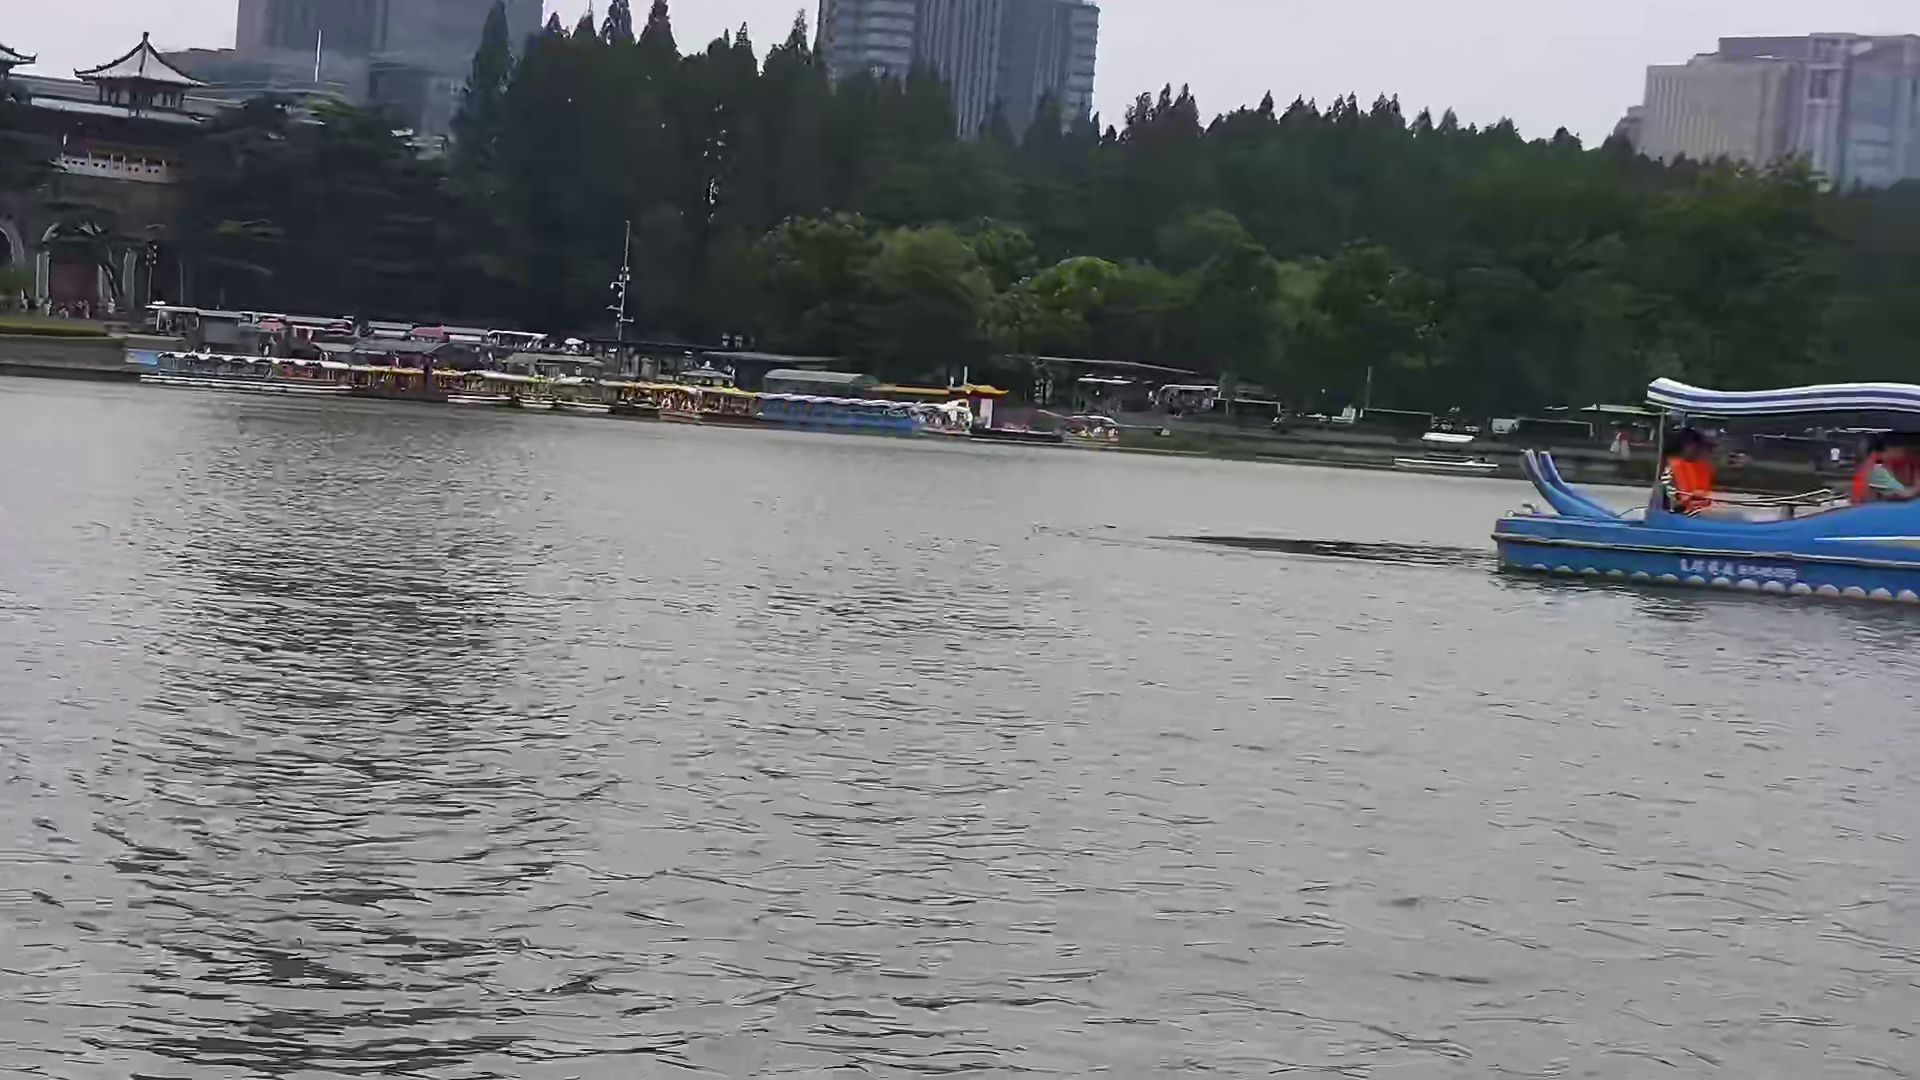boat: (1487, 363, 1920, 629)
person: (1654, 428, 1738, 520)
